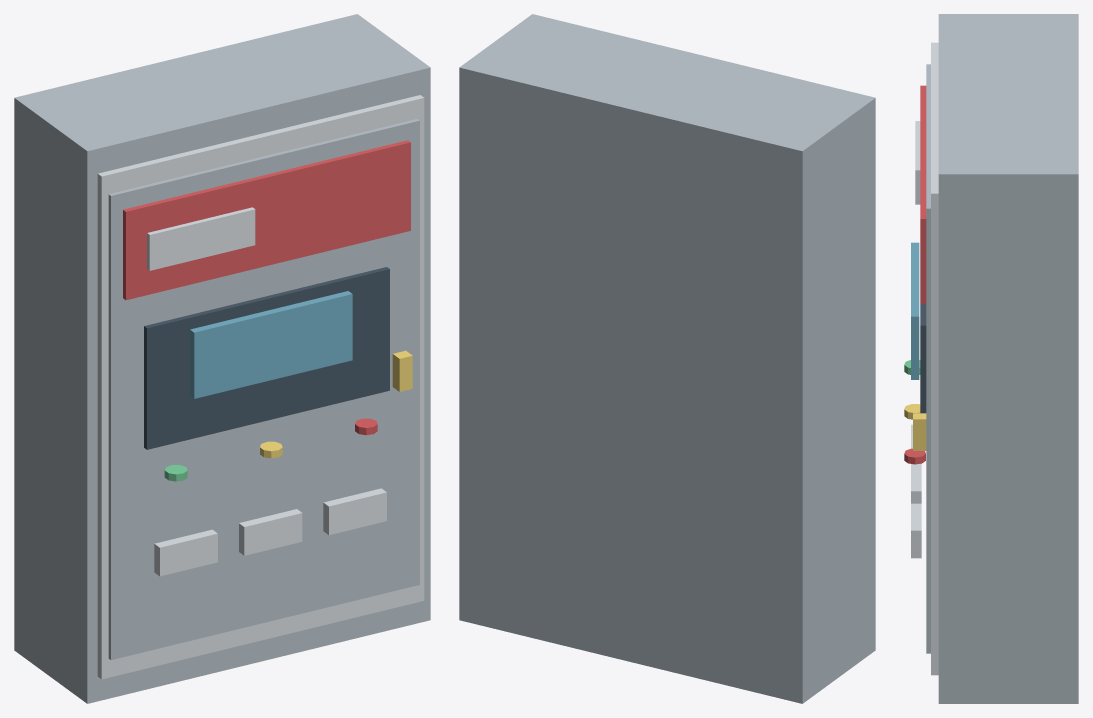
File: fire-alarm-control-panel.glb
3 renders of one model, left to right at view 1: azimuth 30°, elevation 25°; view 2: azimuth 150°, elevation 25°; view 3: azimuth 270°, elevation 25°, orthographic. The views are drawn at different scales.
Parts seen in each view (by area): view 1: fire-alarm-control-panel; view 2: fire-alarm-control-panel; view 3: fire-alarm-control-panel.
Boxes of the visible parts, x1,y1,x2,y2 form: fire-alarm-control-panel: (14, 14, 430, 703); fire-alarm-control-panel: (459, 14, 875, 703); fire-alarm-control-panel: (904, 14, 1078, 703).
Size of the model in its own units: 0.65 by 1 by 0.2987.
